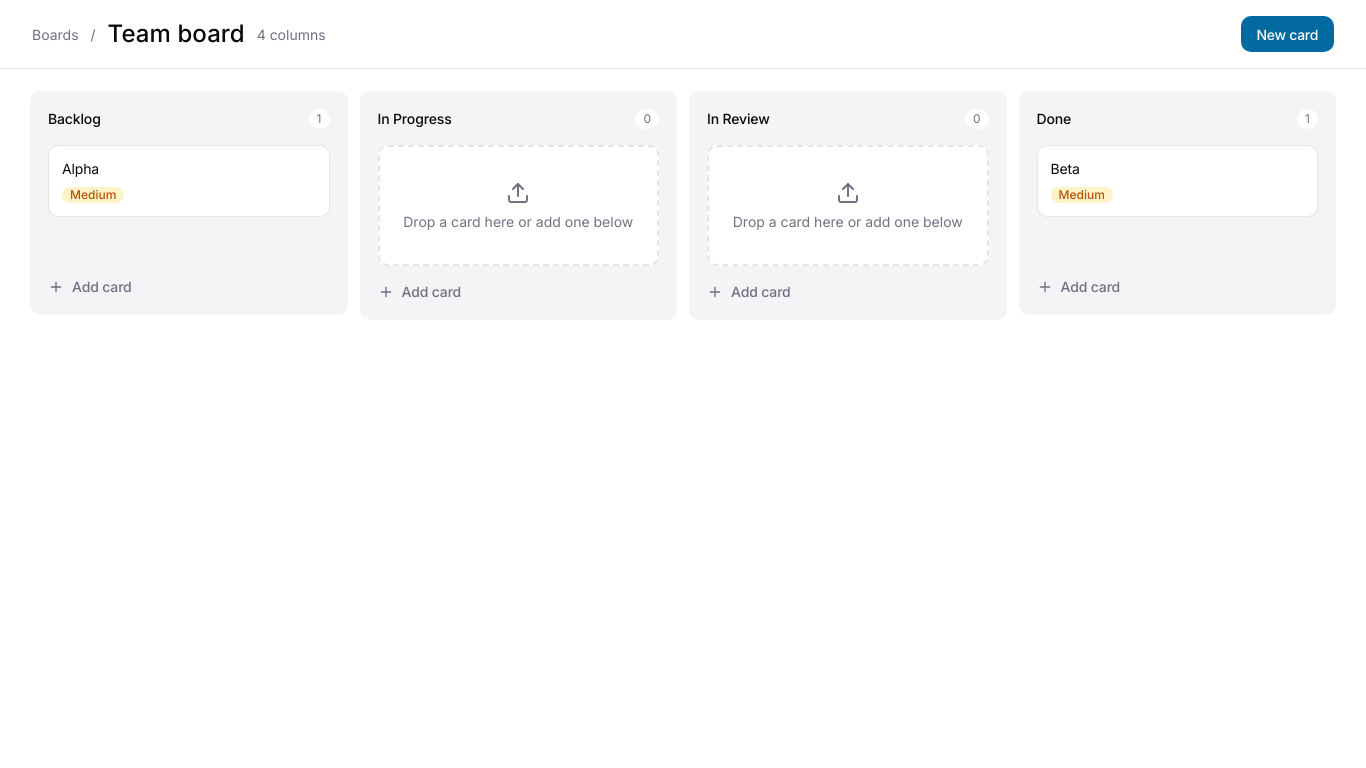
Board › edits a card
Expected: the text "Alpha" is shown, [62,160,99,177]
Click the button with aria-label "Alpha." at (81, 168), box [48,145,330,217]
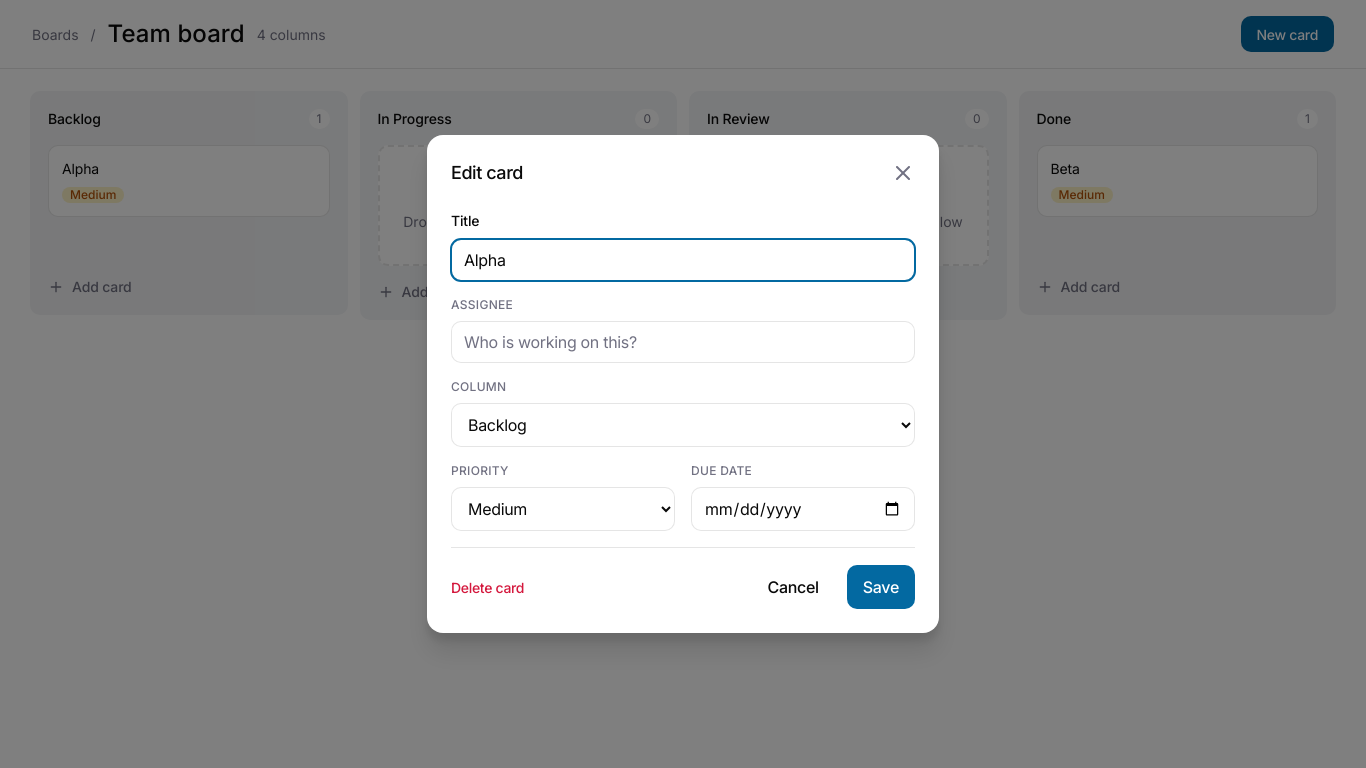
Replace the text in the field labelled "Title" with "Alpha 2" at (683, 260), box [451,239,915,281]
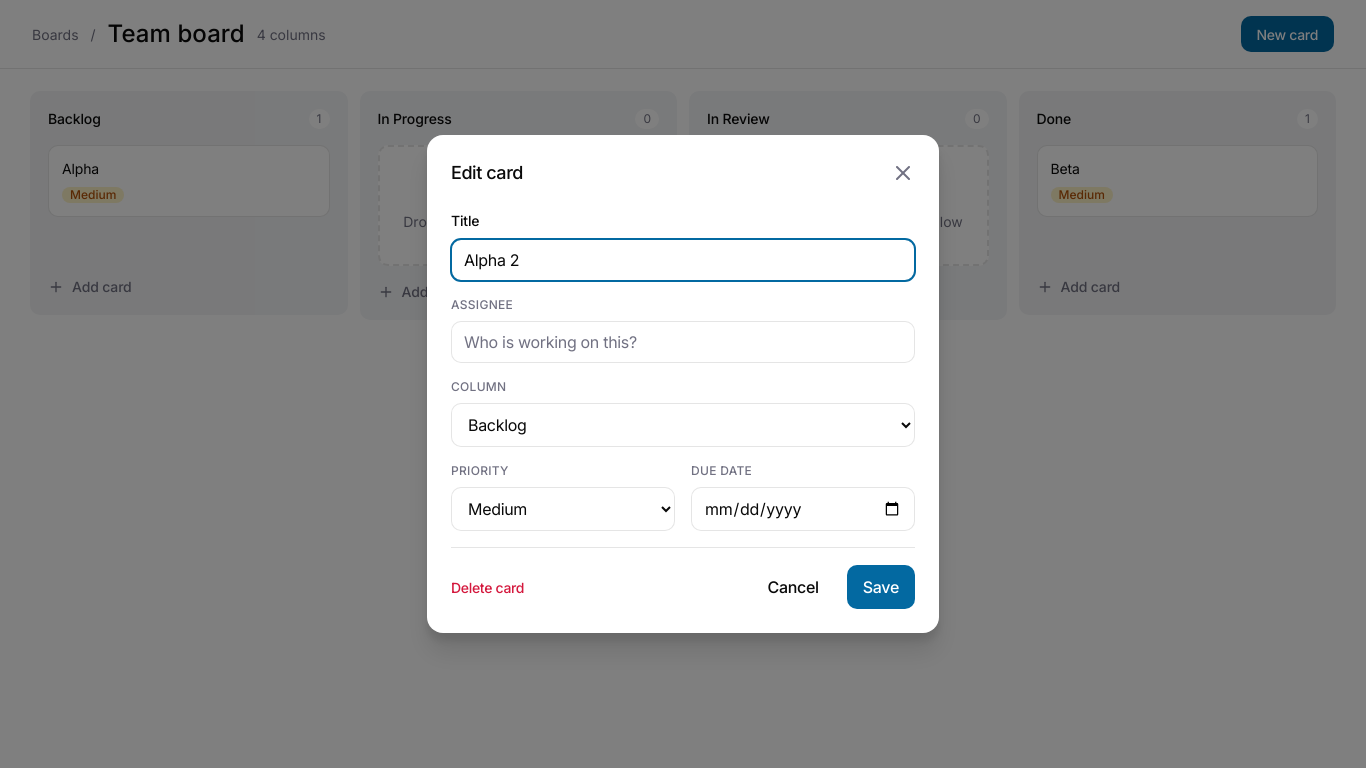
Click the button "Save" at (881, 587), box [847,565,915,609]
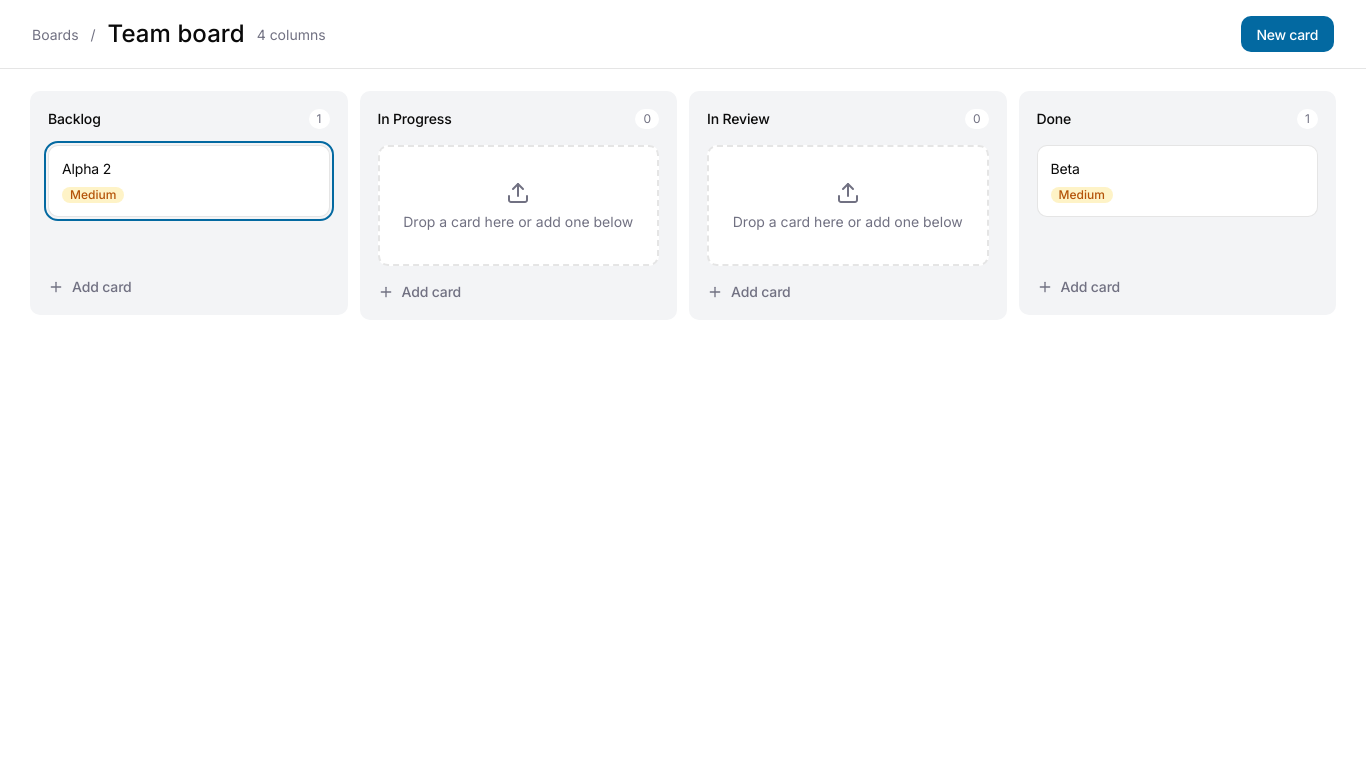
Result: the text "Alpha 2" is shown at [62,160,111,177]
